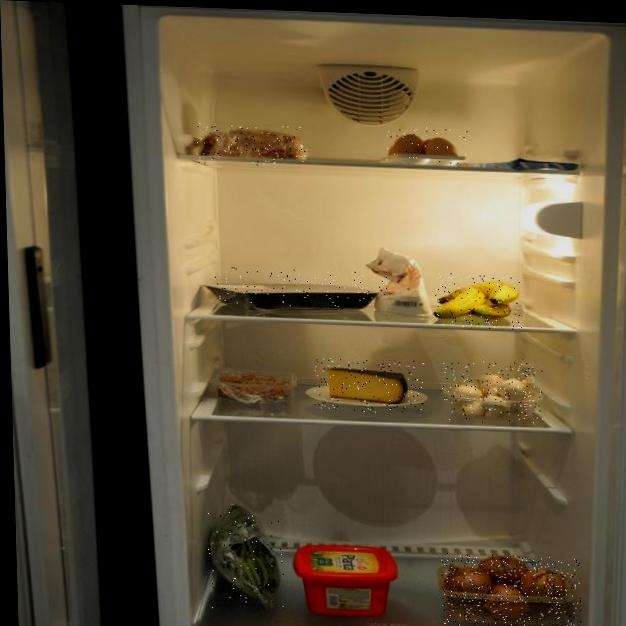banana: (435, 273, 522, 330)
bread: (196, 123, 307, 167)
cheese: (313, 357, 426, 414)
eggs: (385, 126, 468, 167)
green beans: (207, 507, 285, 611)
meat: (212, 267, 388, 311)
mushroom: (441, 360, 544, 425)
onion: (441, 553, 582, 626)
